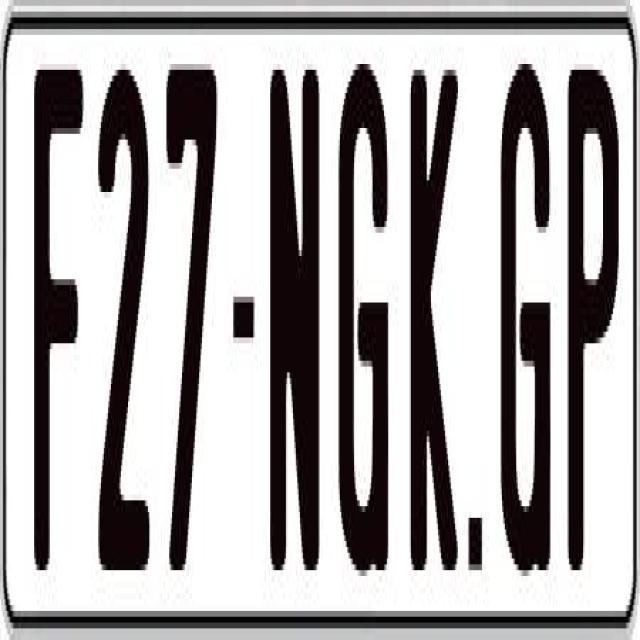2: (96, 58, 150, 582)
7: (167, 58, 220, 594)
F: (32, 64, 82, 594)
G: (334, 63, 392, 600), (498, 58, 548, 594)
K: (408, 63, 462, 600)
N: (266, 58, 319, 582)
P: (567, 70, 623, 594)
